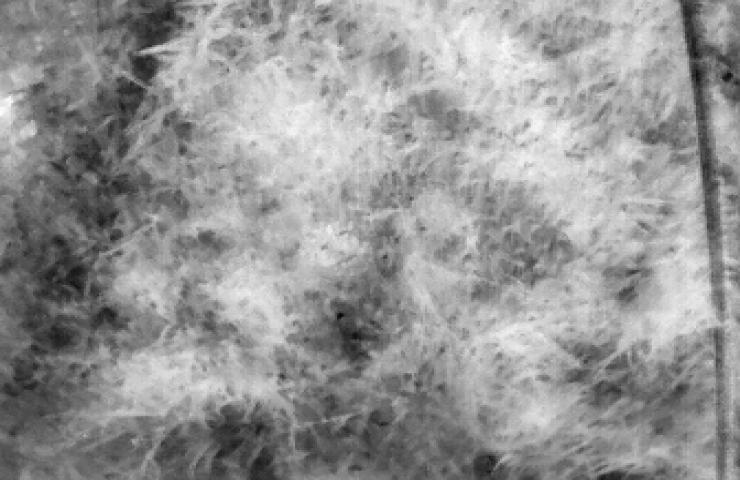landmines: (296, 221, 363, 271)
